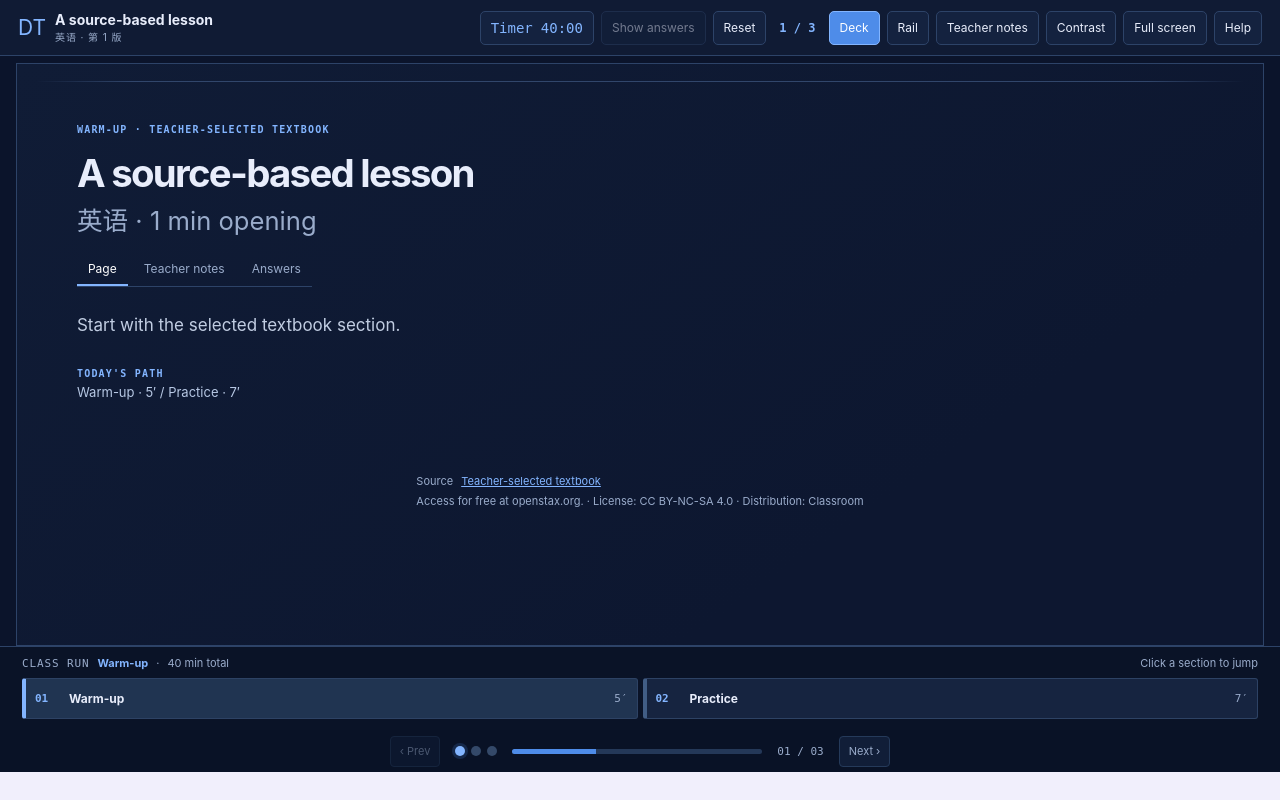
CoursewarePlayer user flows › user_keeps_keyboard_shortcuts_out_of_answer_fields_and_opens_notes_separately
Click the button named "Go to page 2" at (476, 751), box [471, 746, 481, 756]
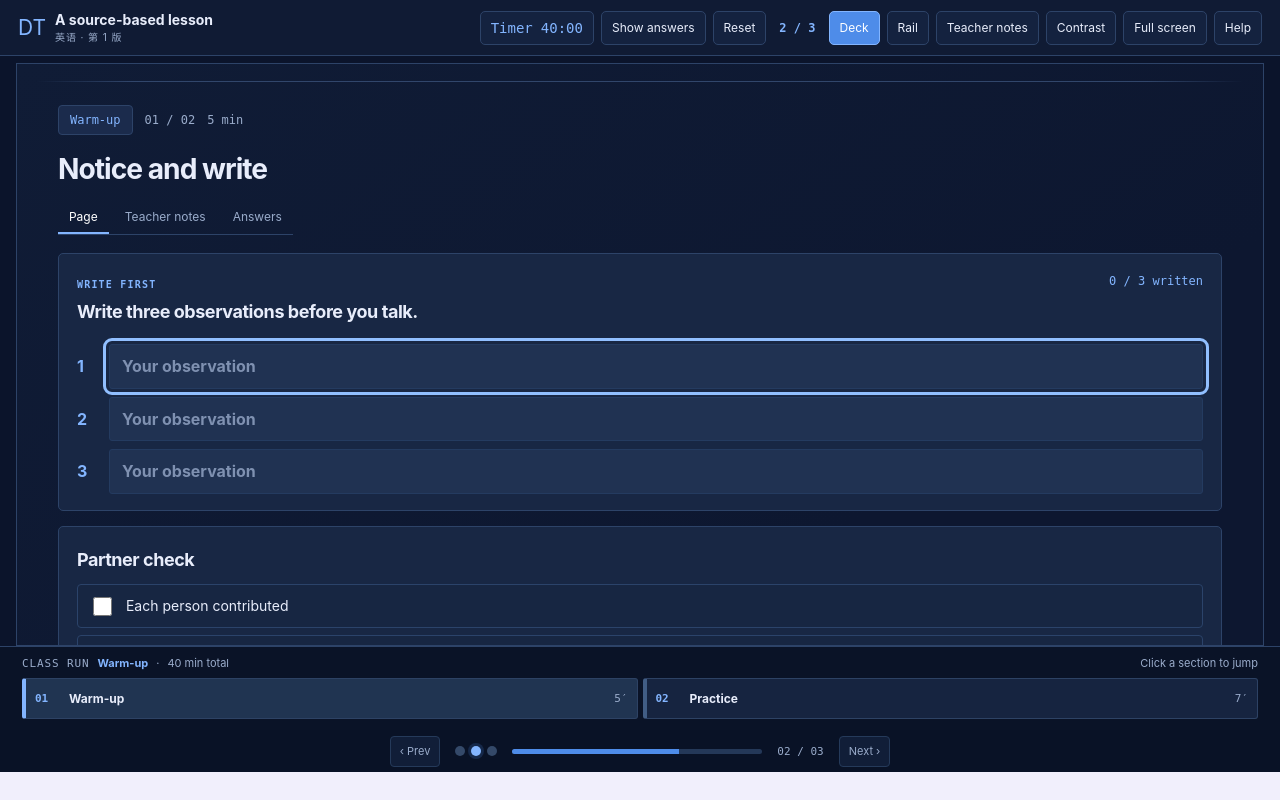
Press ArrowRight in the field named "observation", box [109, 344, 1203, 388]
Press r in the field named "observation", box [109, 344, 1203, 388]
Check: the heading "Notice and write" is shown, box [58, 152, 267, 186]
Click the tab "Teacher notes" at (165, 217), box [114, 201, 217, 234]
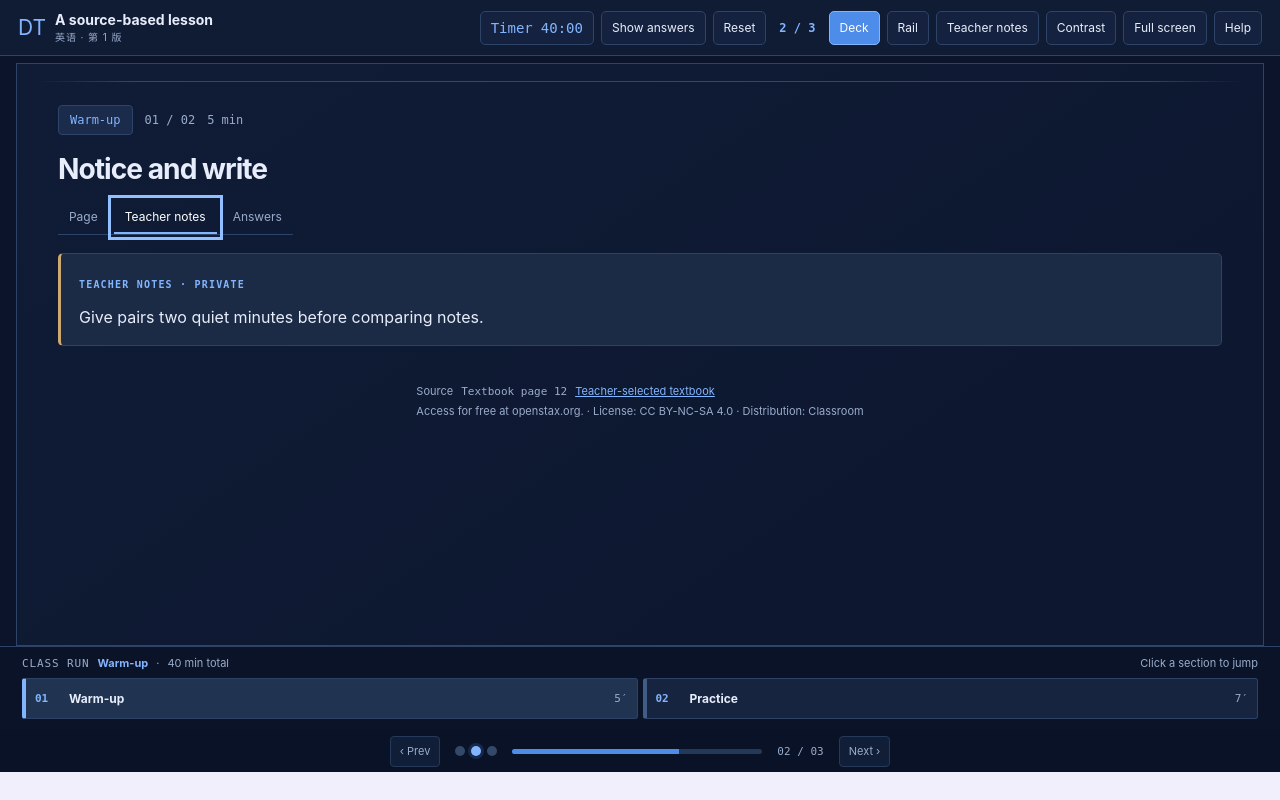
Check: the text "Give pairs two quiet minutes before comparing notes." is shown, box [79, 306, 484, 326]
Check: the heading "Write three observations before you talk." is gone
